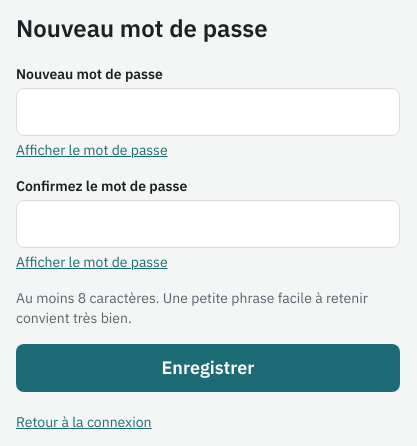
Test case: account links and forgotten password (D1, D4, D5) › D5_aResetLinkSetsANewPasswordAndTakesTheSecretOutOfTheAddressBar
In the password field labelled "Nouveau mot de passe": (208, 112) [16,88,400,136], type "Une autre phrase"
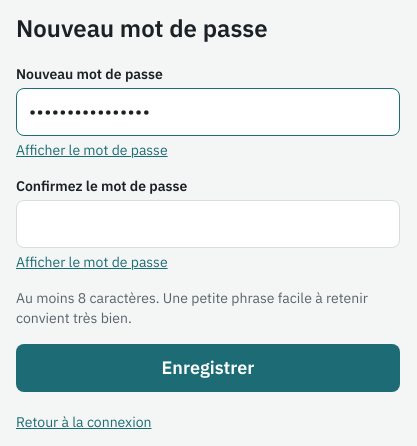
In the password field labelled "Confirmez le mot de passe": (208, 224) [16,200,400,248], type "Une autre phrase"
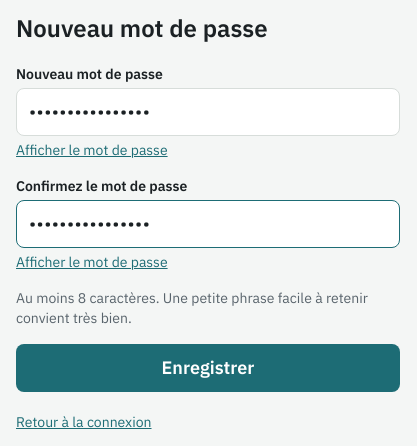
Click the button "Enregistrer": click(208, 368) [16,344,400,392]
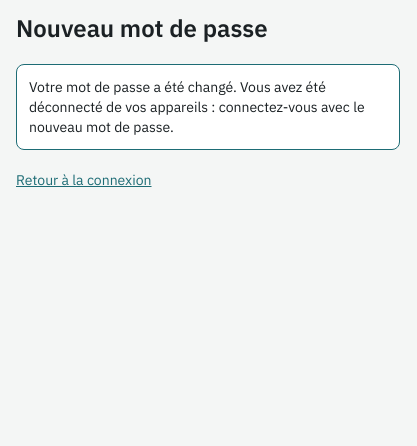
Result: the message shows "Votre mot de passe a été changé" at [29,78,365,136]
